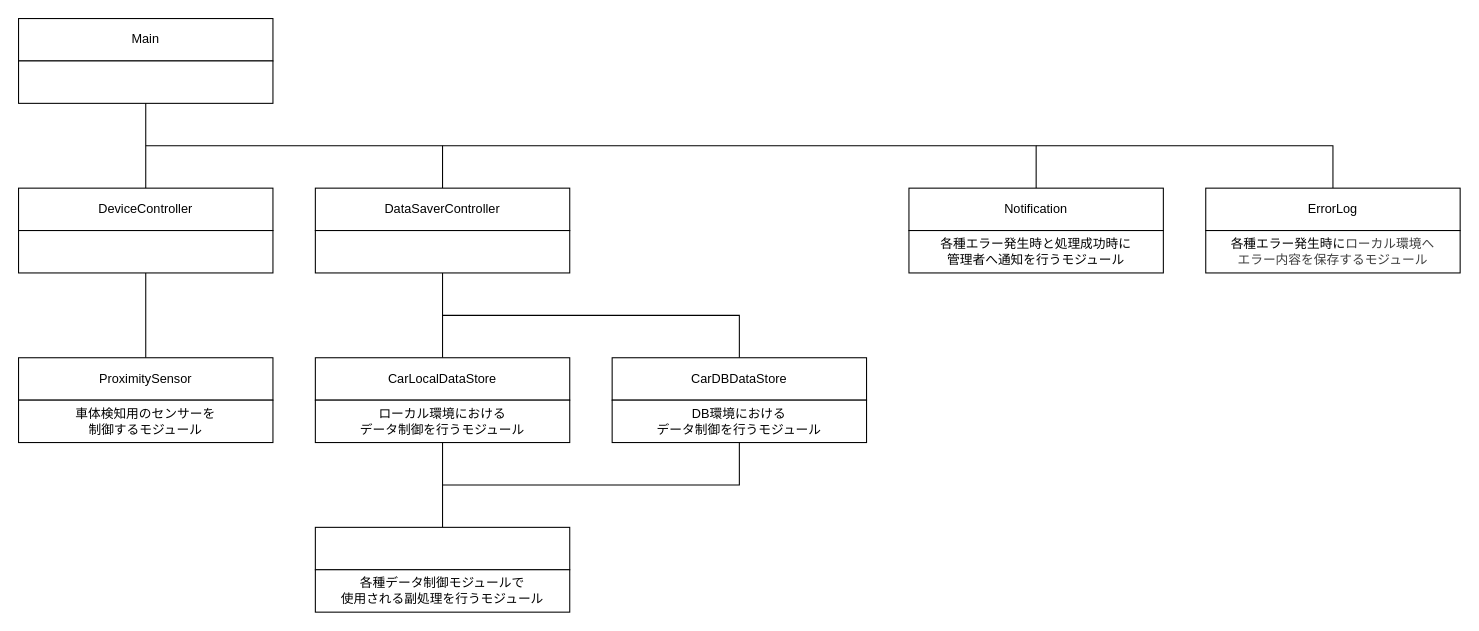
Image size: 1479x631. Some labels were removed from this diagram. Each missing label, with the centre of its shape:
CarDataStoreUtilities: point 442,548
データを 制御するモジュール: point 442,251
各Controllerを統合するメインモジュール: point 145,81
各ハードウェアデバイスを 制御するモジュール: point 145,251
